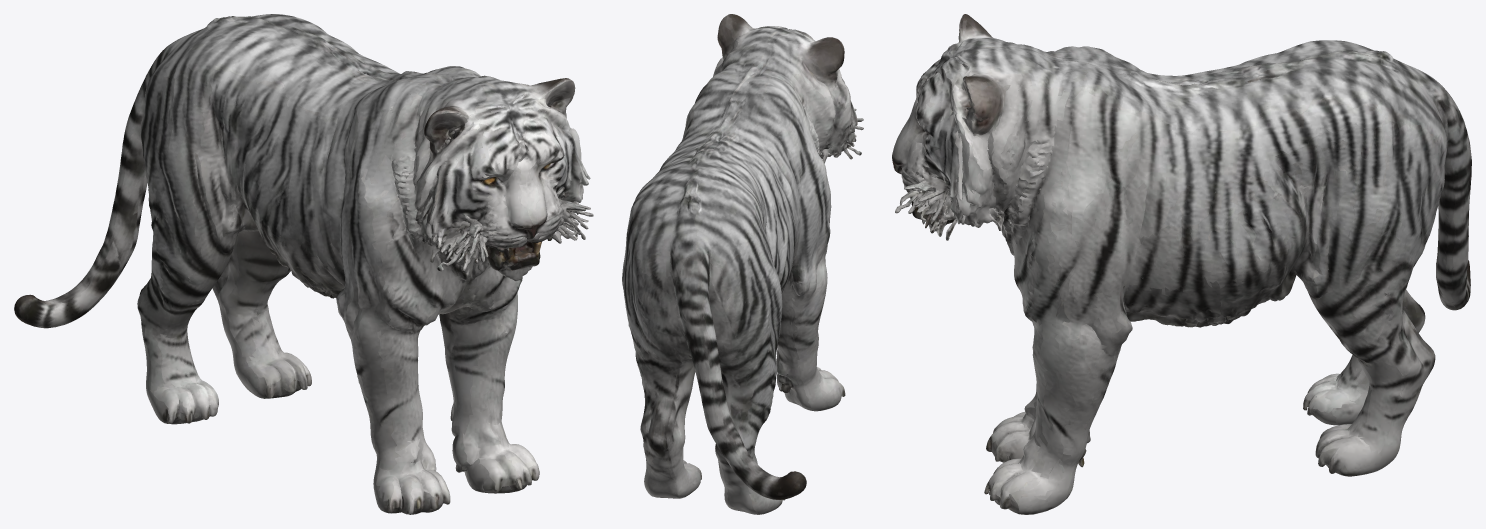
File: baihu.glb
3 views of the same model, side by side, from view 1: azimuth 30°, elevation 25°; view 2: azimuth 150°, elevation 25°; view 3: azimuth 270°, elevation 25° (orthographic). The views are drawn at different scales.
Visible parts, largest first — view 1: geometry_0; view 2: geometry_0; view 3: geometry_0.
Boxes of the visible parts, box(x1,y1,x2,y2) form: geometry_0: box(14, 14, 593, 514); geometry_0: box(622, 14, 863, 514); geometry_0: box(892, 14, 1471, 514).
Bounding box in the file's own units: 3 × 3.52 × 4.17.
Materials: 1 (1 with a texture image).
